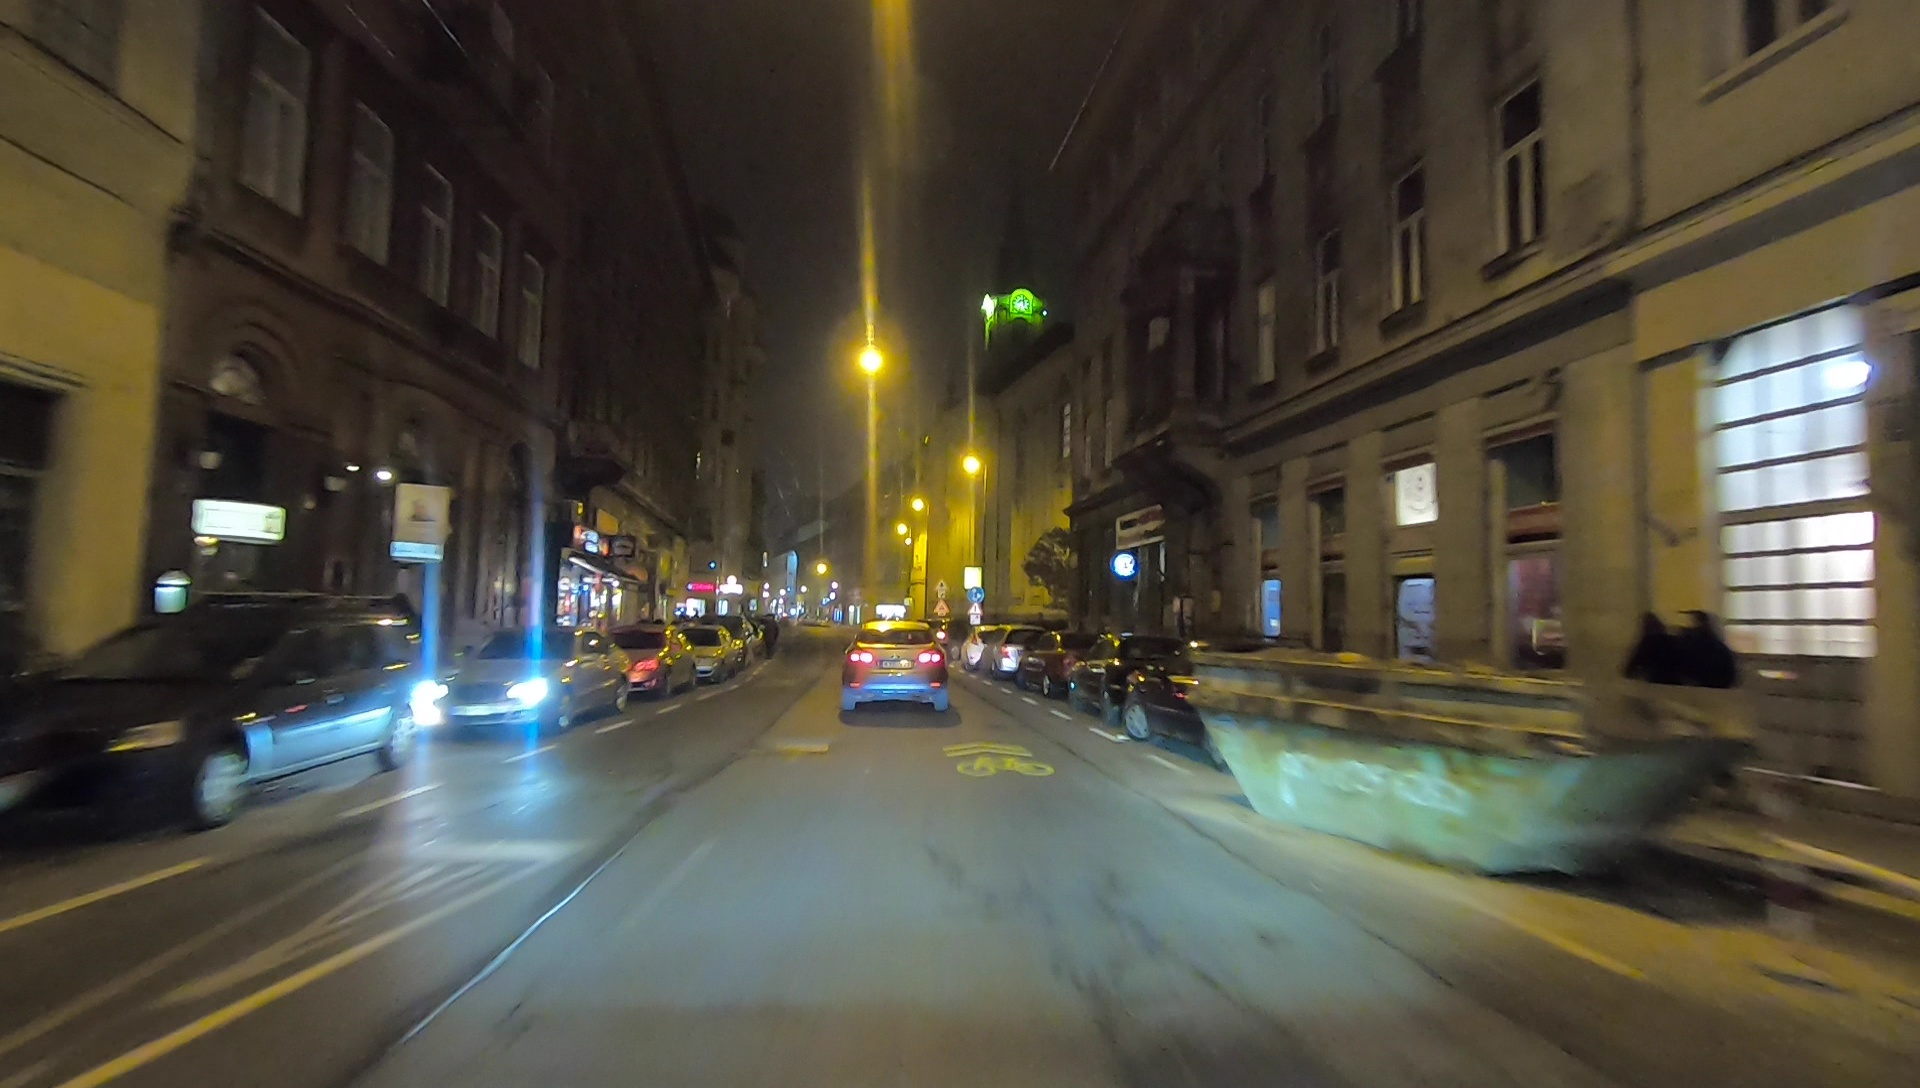person: (1669, 608, 1736, 767), (1632, 606, 1676, 767)
